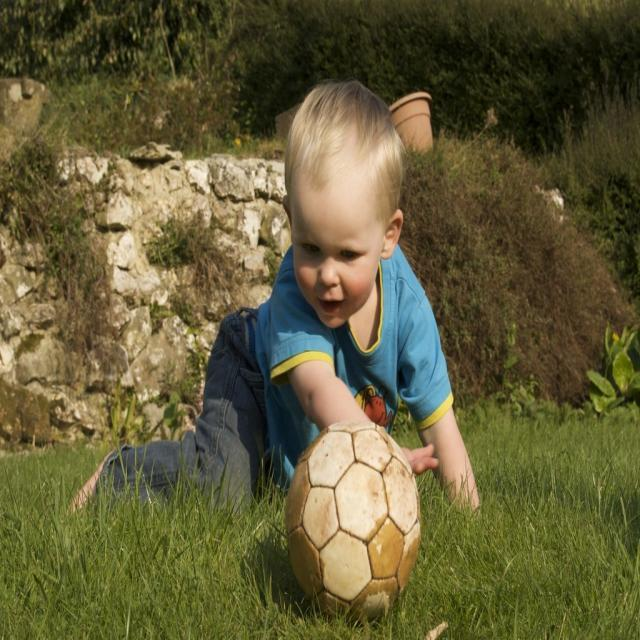football: (269, 418, 461, 624)
